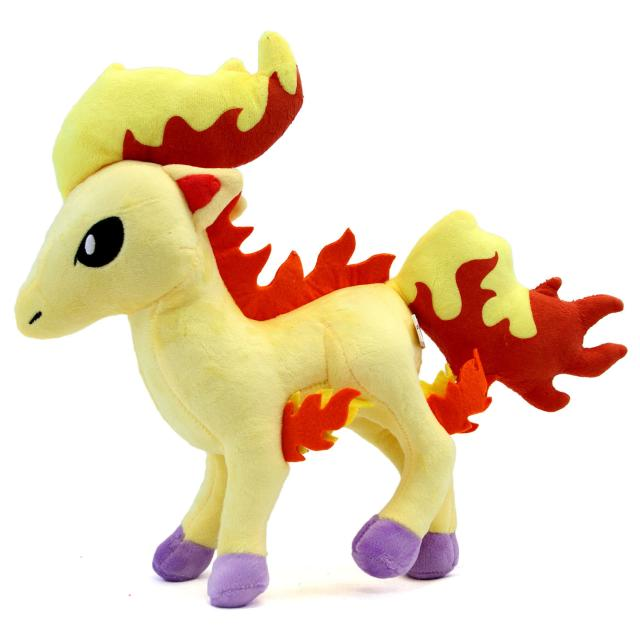Ponyta: (21, 69, 491, 606)
